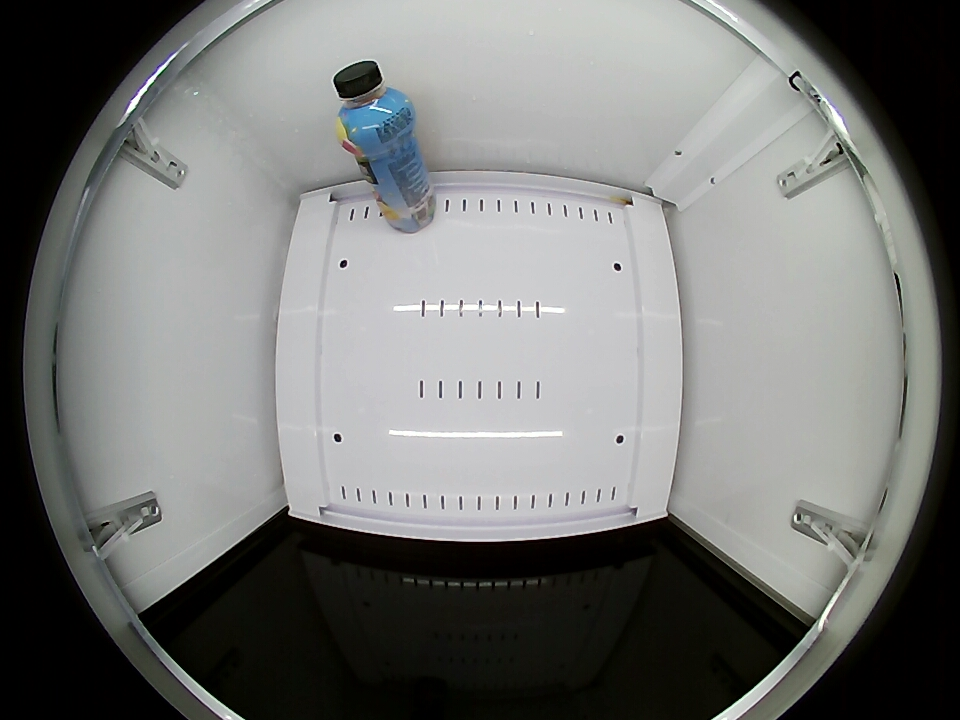guolicheng2: (333, 60, 414, 149)
